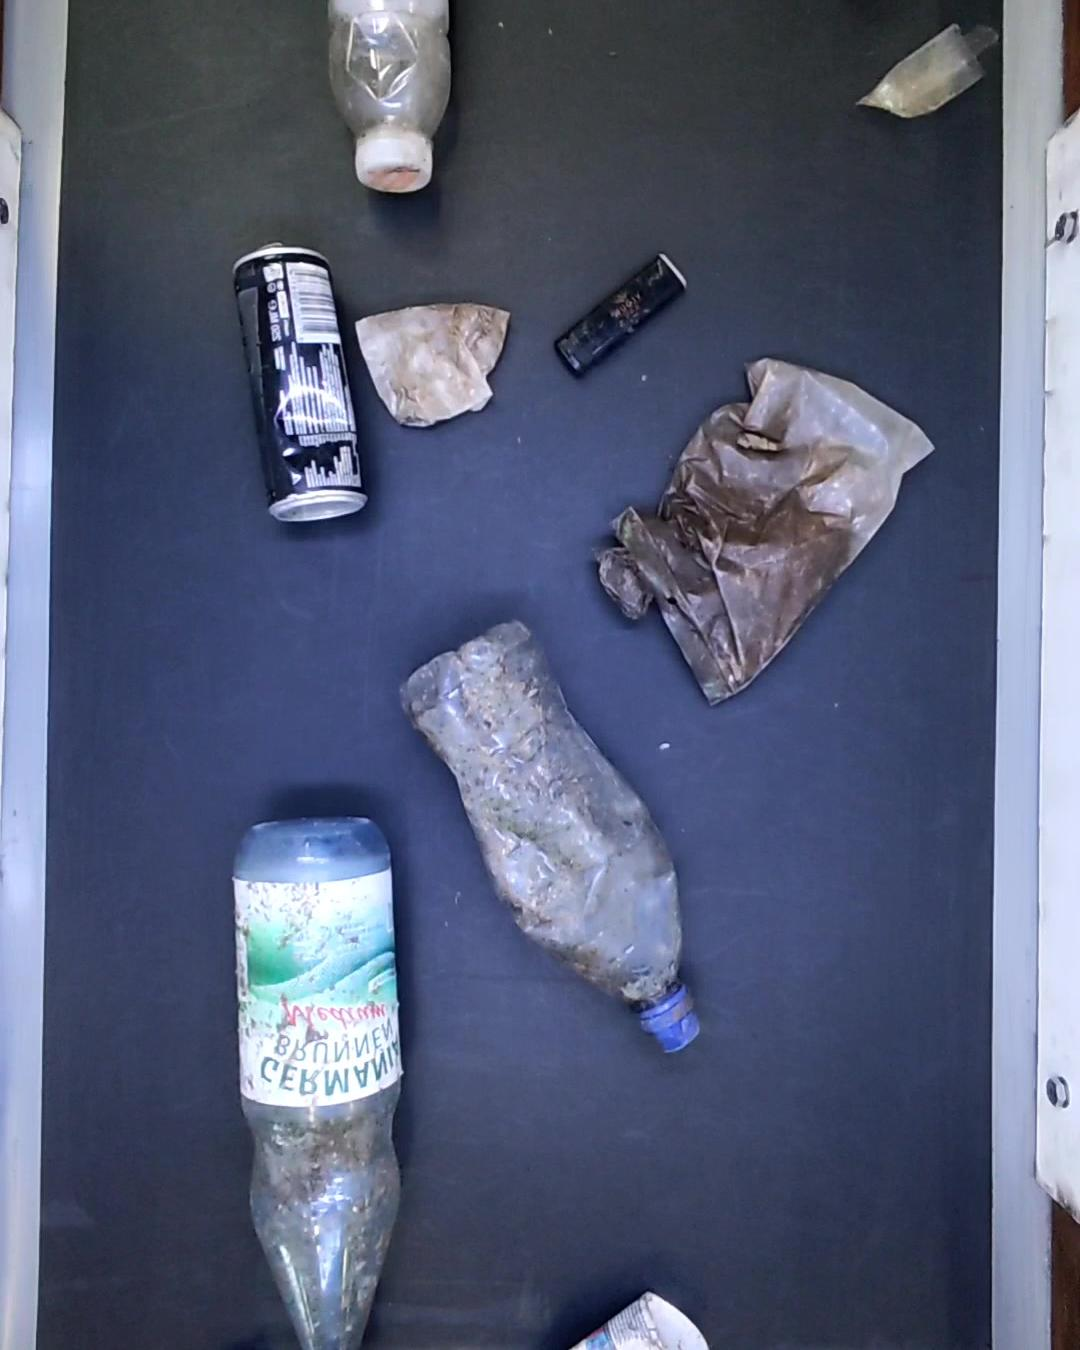Drankblikjes: (231, 240, 372, 526)
Drankflessen - 1-2 liter: (411, 613, 720, 1045), (223, 806, 420, 1344), (328, 0, 460, 195)
Plastic folies of stukken daarvan 2.5- 50 cm: (596, 357, 930, 708), (347, 295, 522, 434), (849, 12, 997, 123)
